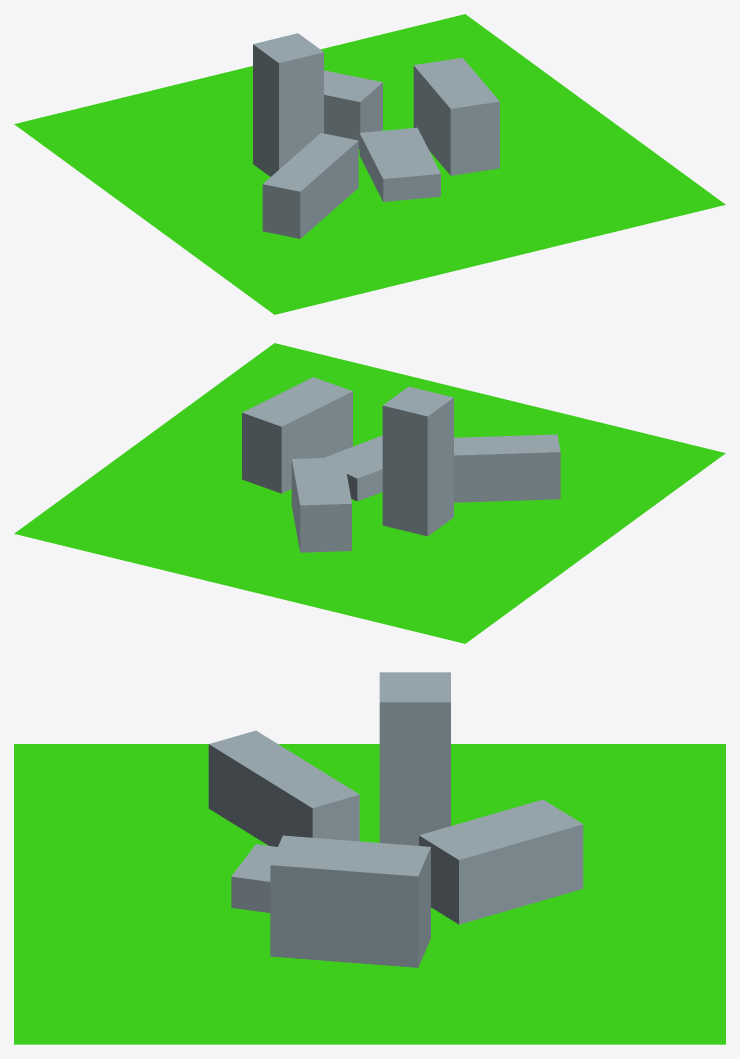
The model's file is BaseScene.glb.
3 views of the same model, one above another, from view 1: azimuth 30°, elevation 25°; view 2: azimuth 150°, elevation 25°; view 3: azimuth 270°, elevation 25° (orthographic). The views are drawn at different scales.
Parts seen in each view (by area): view 1: Plane, Cube, Cube.003, Cube.002, Cube.004, Cube.001; view 2: Plane, Cube, Cube.003, Cube.002, Cube.001, Cube.004; view 3: Plane, Cube.003, Cube.001, Cube.002, Cube, Cube.004.
Boxes of the visible parts, bbox=[...] form: Plane: bbox=[14, 14, 725, 314]; Cube: bbox=[253, 33, 323, 176]; Cube.003: bbox=[413, 57, 499, 175]; Cube.002: bbox=[262, 133, 358, 238]; Cube.004: bbox=[359, 127, 440, 201]; Cube.001: bbox=[324, 70, 382, 148]; Plane: bbox=[14, 343, 725, 643]; Cube: bbox=[382, 386, 453, 536]; Cube.003: bbox=[242, 377, 352, 493]; Cube.002: bbox=[454, 434, 560, 502]; Cube.001: bbox=[291, 457, 351, 552]; Cube.004: bbox=[324, 435, 382, 501]; Plane: bbox=[14, 744, 725, 1044]; Cube.003: bbox=[270, 835, 430, 967]; Cube.001: bbox=[419, 799, 583, 924]; Cube.002: bbox=[208, 730, 359, 846]; Cube: bbox=[379, 672, 450, 845]; Cube.004: bbox=[231, 844, 277, 912].
Bounding box in the file's own units: 20 × 5.08 × 20.
